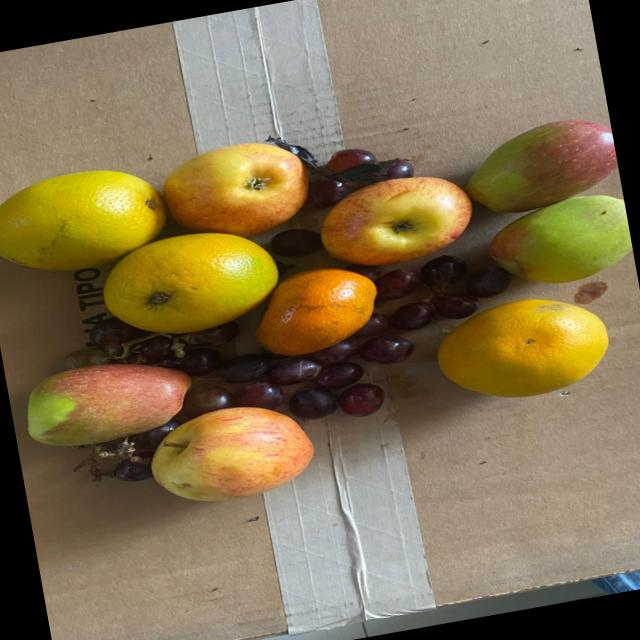bolsa_negra: (257, 121, 356, 208)
